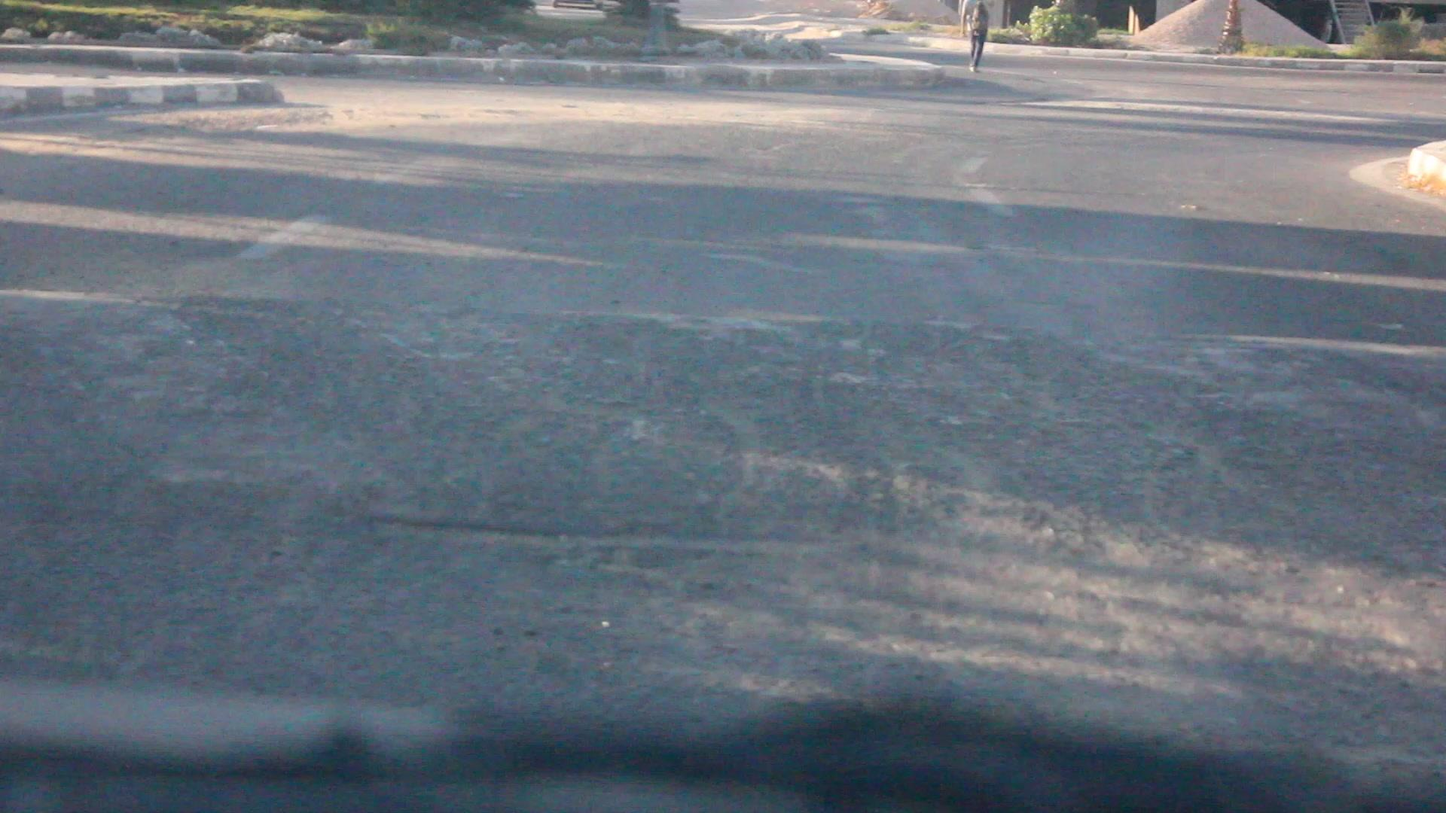Bump: (9, 294, 1446, 764)
